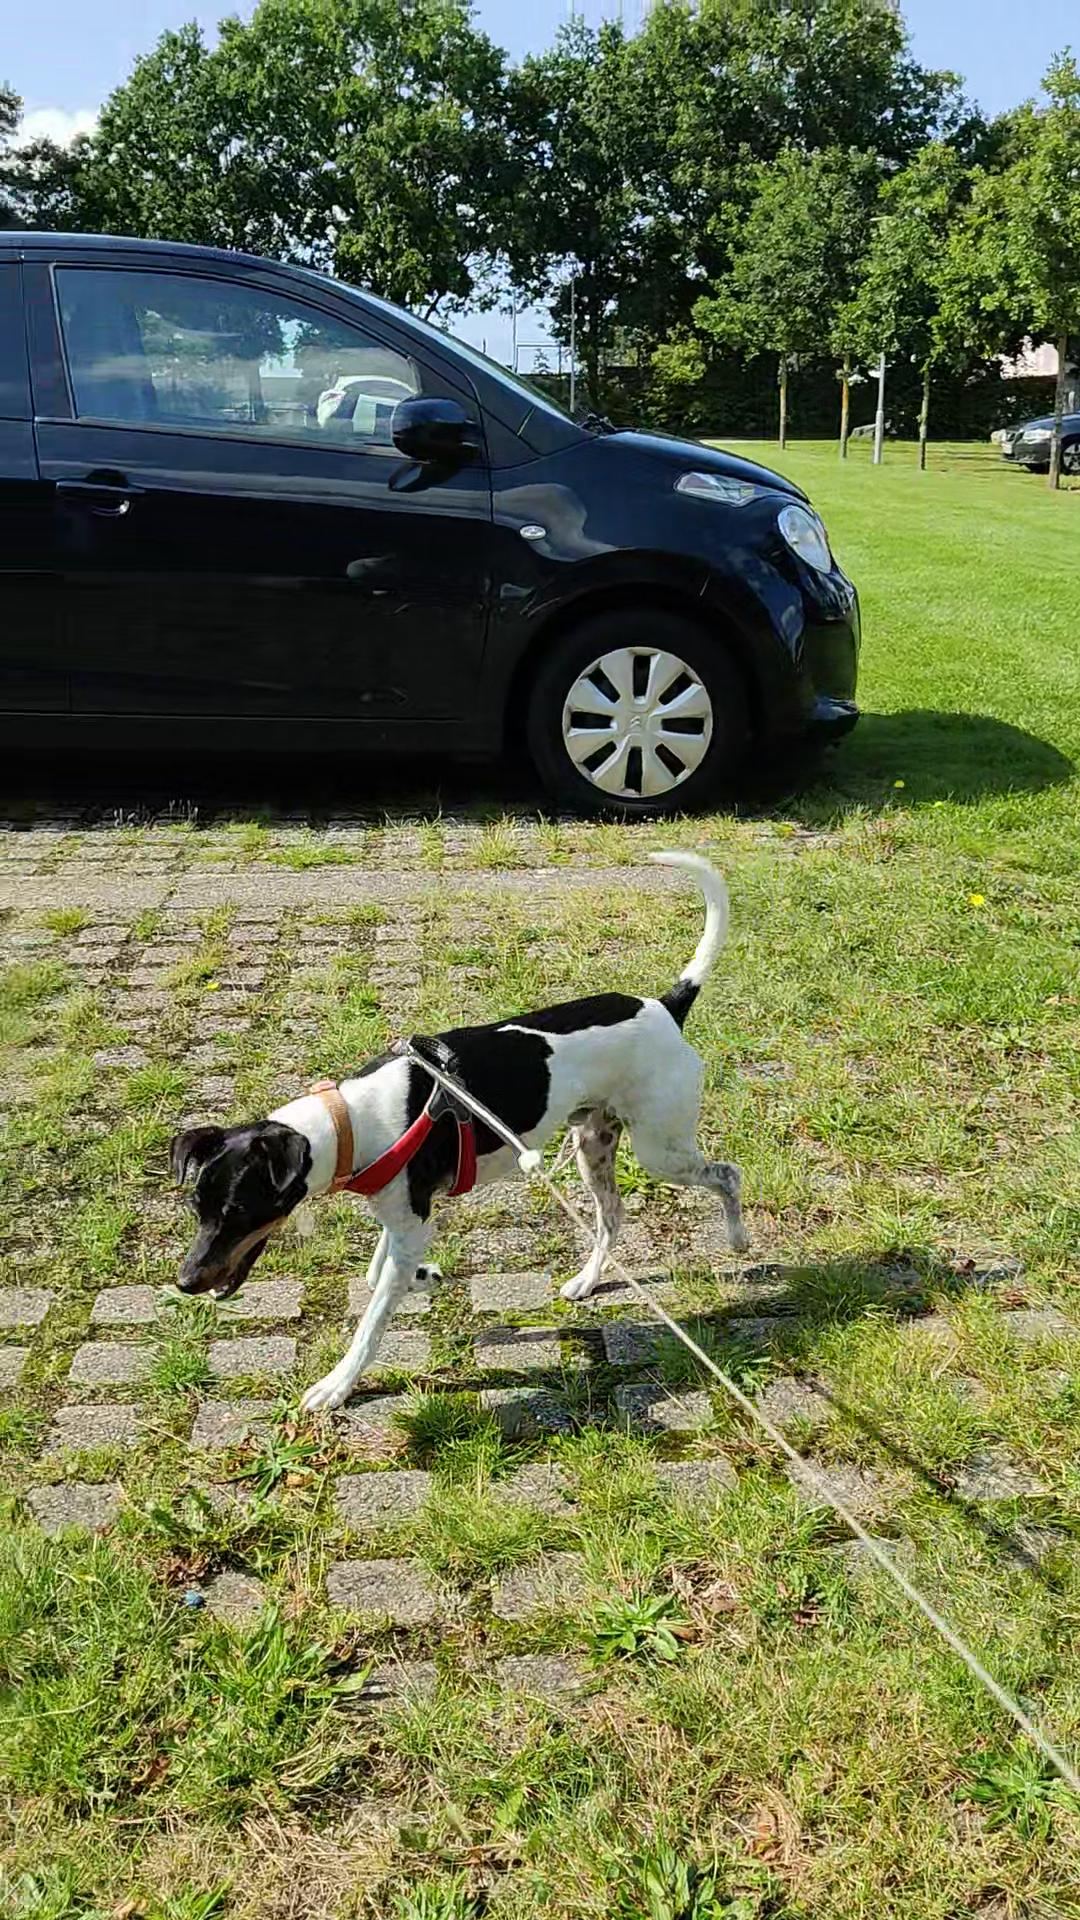Dog: (150, 804, 770, 1440)
